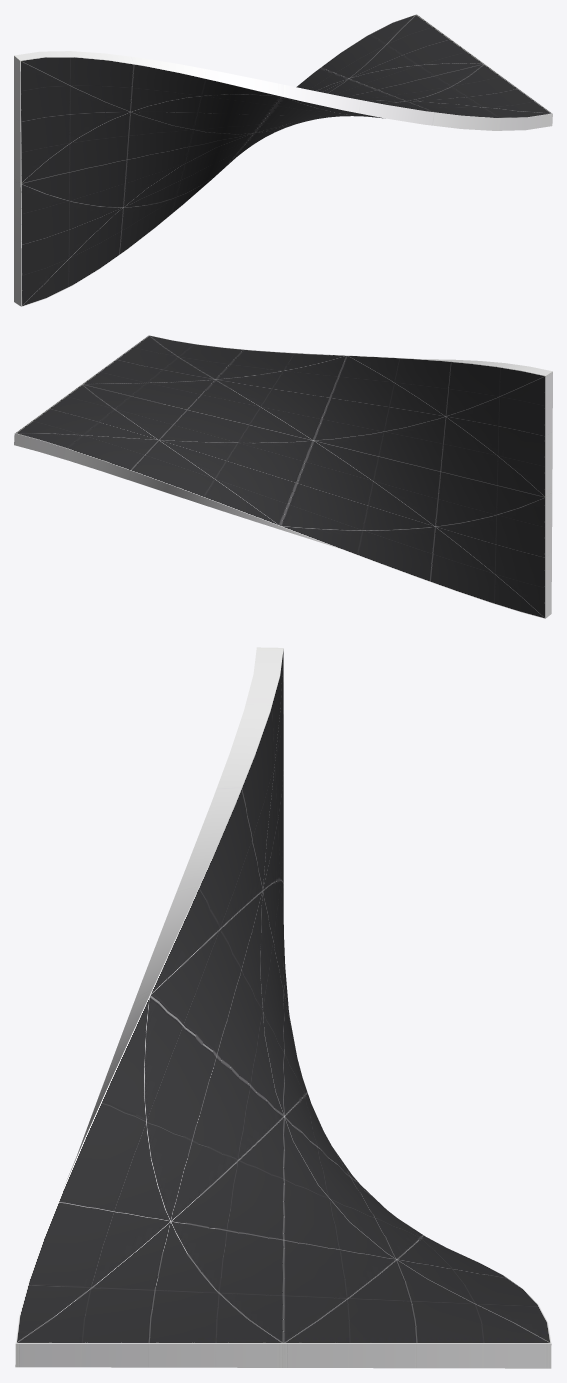
Rendered from TiltTransitionRight-transformed.glb.
3 views of the same model, one above another, from view 1: azimuth 30°, elevation 25°; view 2: azimuth 150°, elevation 25°; view 3: azimuth 270°, elevation 25° (orthographic). The views are drawn at different scales.
Visible parts, largest first — view 1: TiltTransitionRight; view 2: TiltTransitionRight; view 3: TiltTransitionRight.
Part boxes in pixels (<box>): TiltTransitionRight: <box>14,14,552,306</box>; TiltTransitionRight: <box>14,335,552,618</box>; TiltTransitionRight: <box>15,647,551,1368</box>.
Size of the model in its own units: 20.06 by 10 by 10.
1 material, 1 textured.
